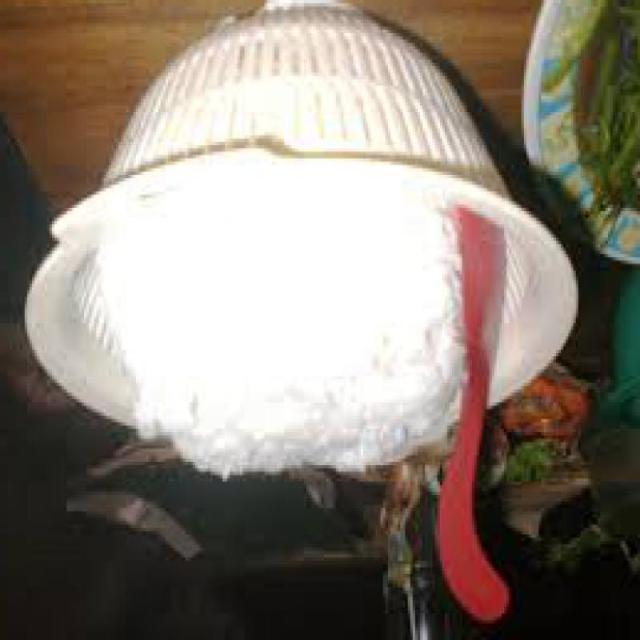nasi_putih: (96, 182, 467, 477)
